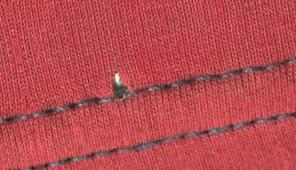hole: (108, 68, 129, 89)
